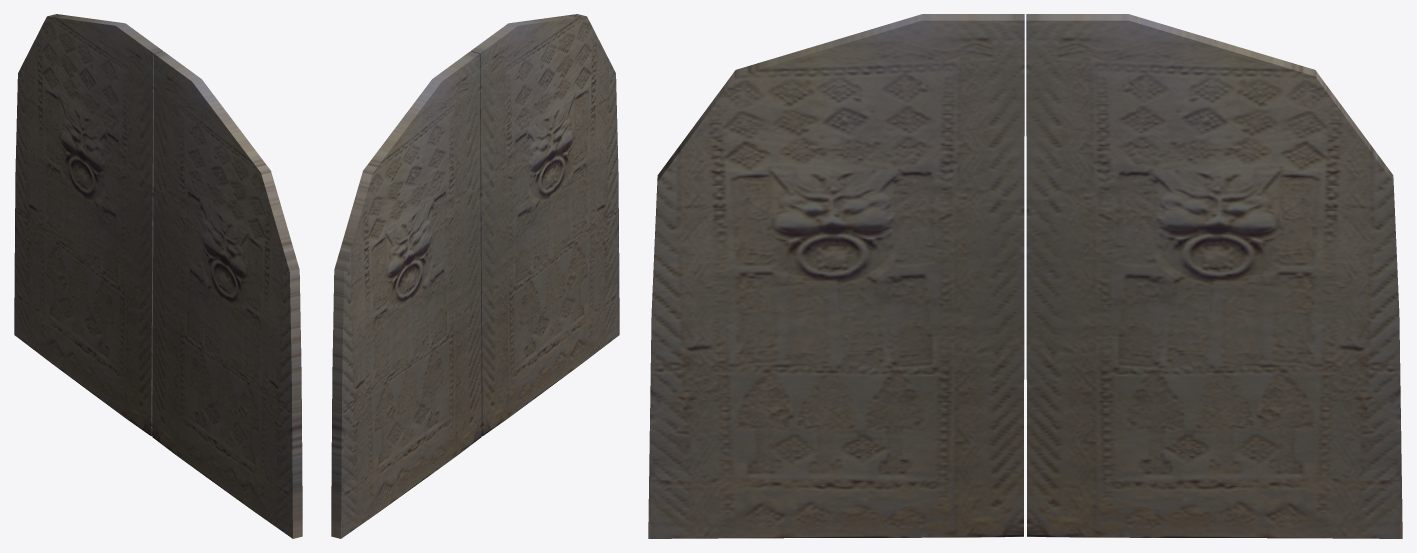
The picture shows the model from 3 angles, left to right: view 1: azimuth 30°, elevation 25°; view 2: azimuth 150°, elevation 25°; view 3: azimuth 270°, elevation 25°; orthographic projection. The views are drawn at different scales.
Visible parts, largest first — view 1: 对象064, 对象063; view 2: 对象063, 对象064; view 3: 对象063, 对象064.
Boxes of the visible parts, x1,y1,x2,y2 form: 对象064: (152,51,302,538); 对象063: (14,14,163,436); 对象063: (331,51,481,538); 对象064: (470,14,619,436); 对象063: (1026,14,1402,538); 对象064: (648,14,1024,538).
Bounding box in the file's own units: 4.44 × 134 × 176.
1 material, 1 textured.
